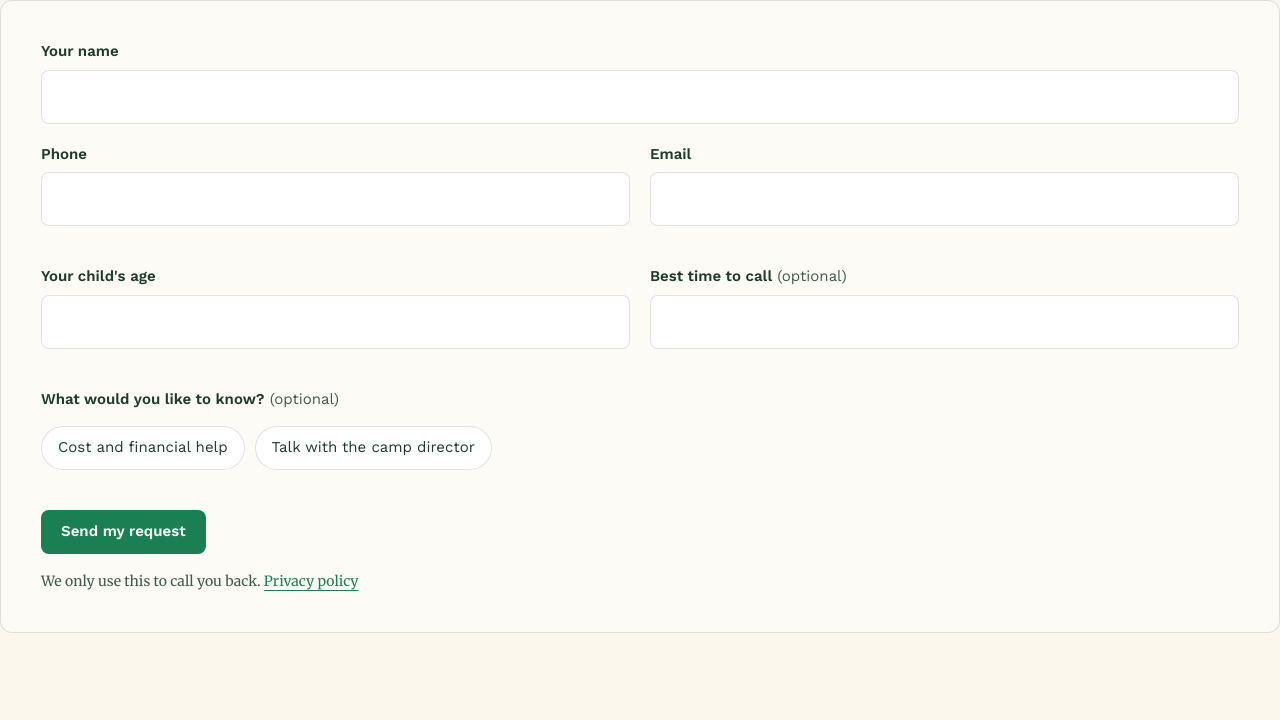
Scenario: AskAboutCampFields › shows the error message and the office phone when sending fails
Type "Dana Rivera" into the field labelled "Your name" at (640, 97), box [41, 70, 1239, 124]
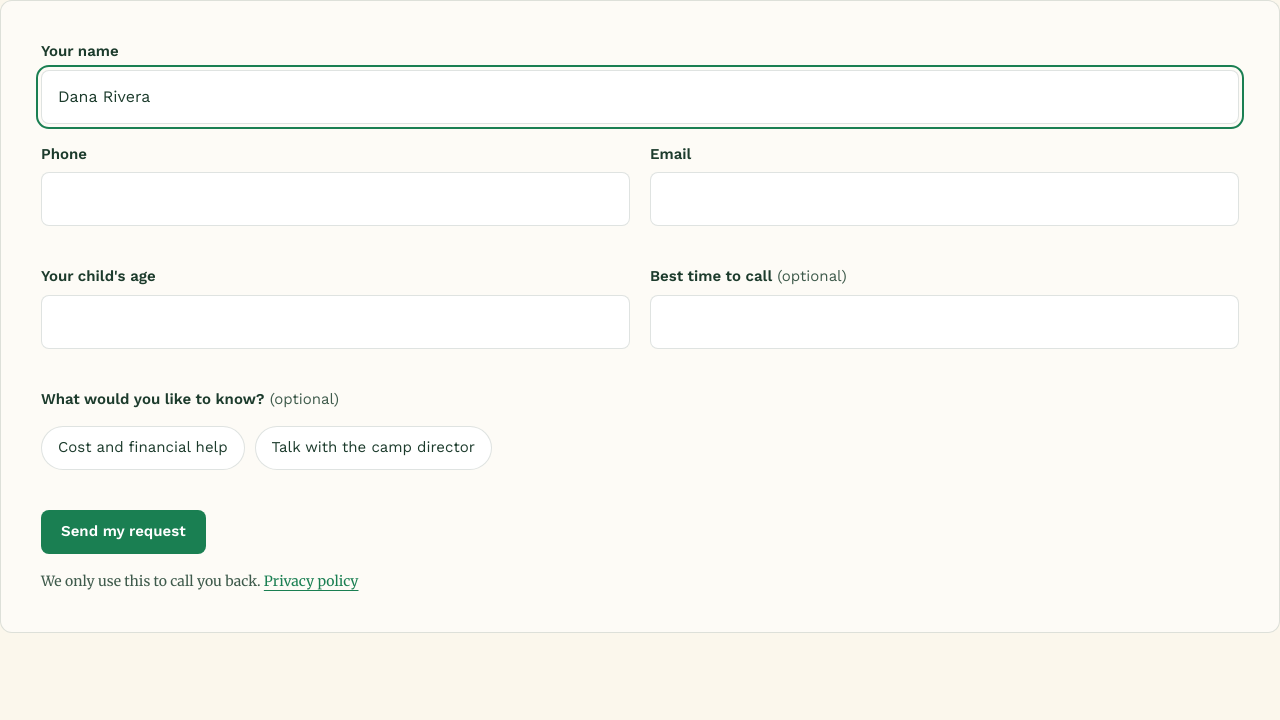
Type "610-555-0123" into the field labelled "Phone" at (336, 199), box [41, 172, 630, 226]
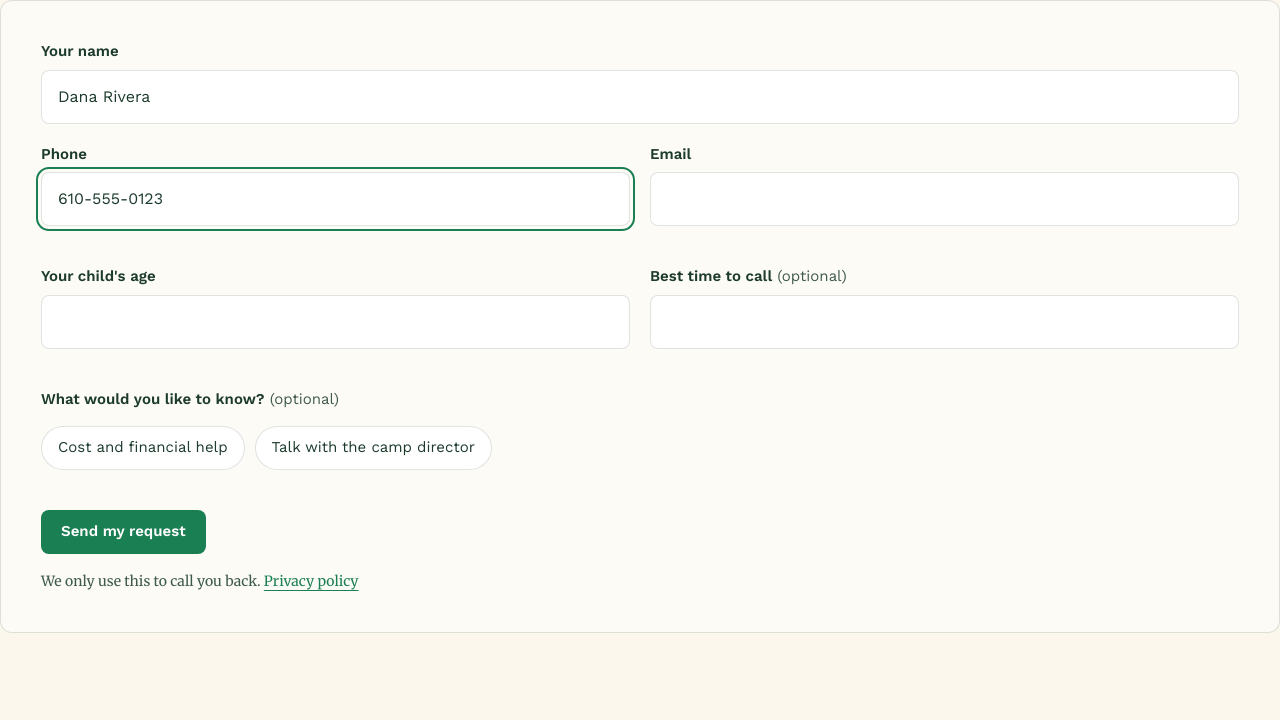
Type "dana@example.com" into the field labelled "Email" at (944, 199), box [650, 172, 1239, 226]
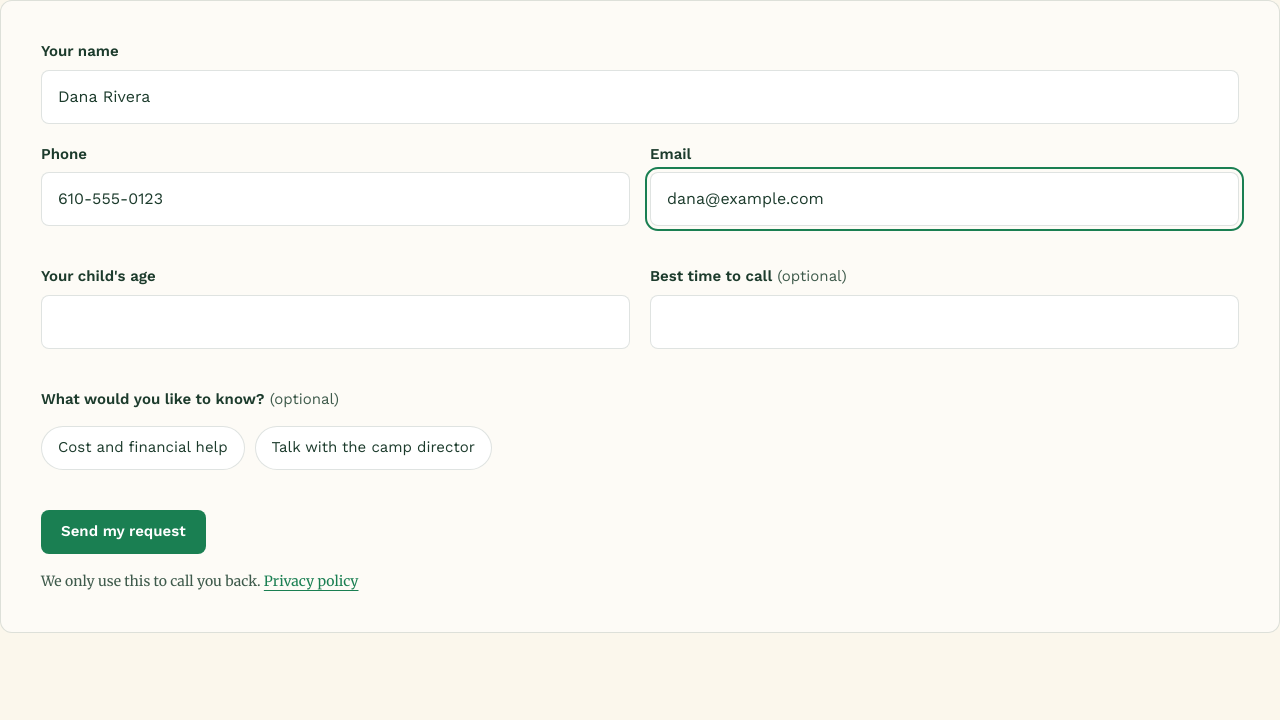
Type "9" into the field labelled "Your child's age" at (336, 322), box [41, 295, 630, 349]
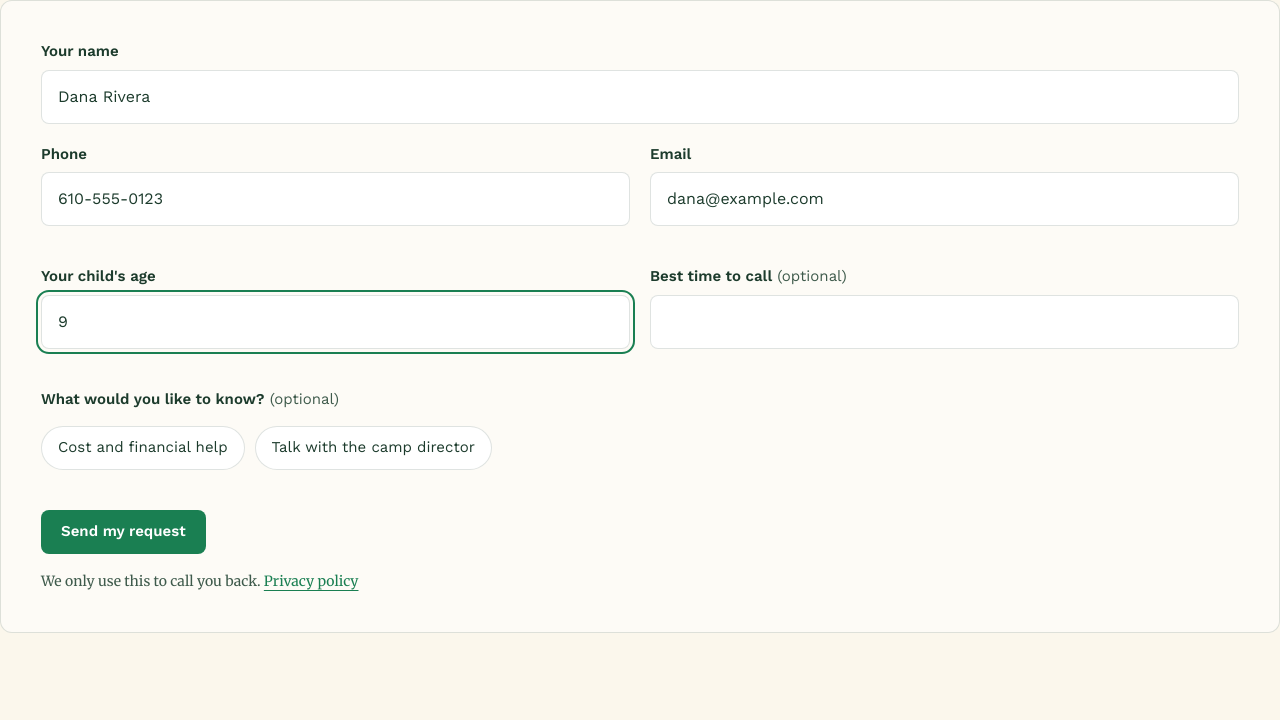
Click the checkbox labelled "Cost and financial help" at (143, 448), box [41, 426, 244, 470]
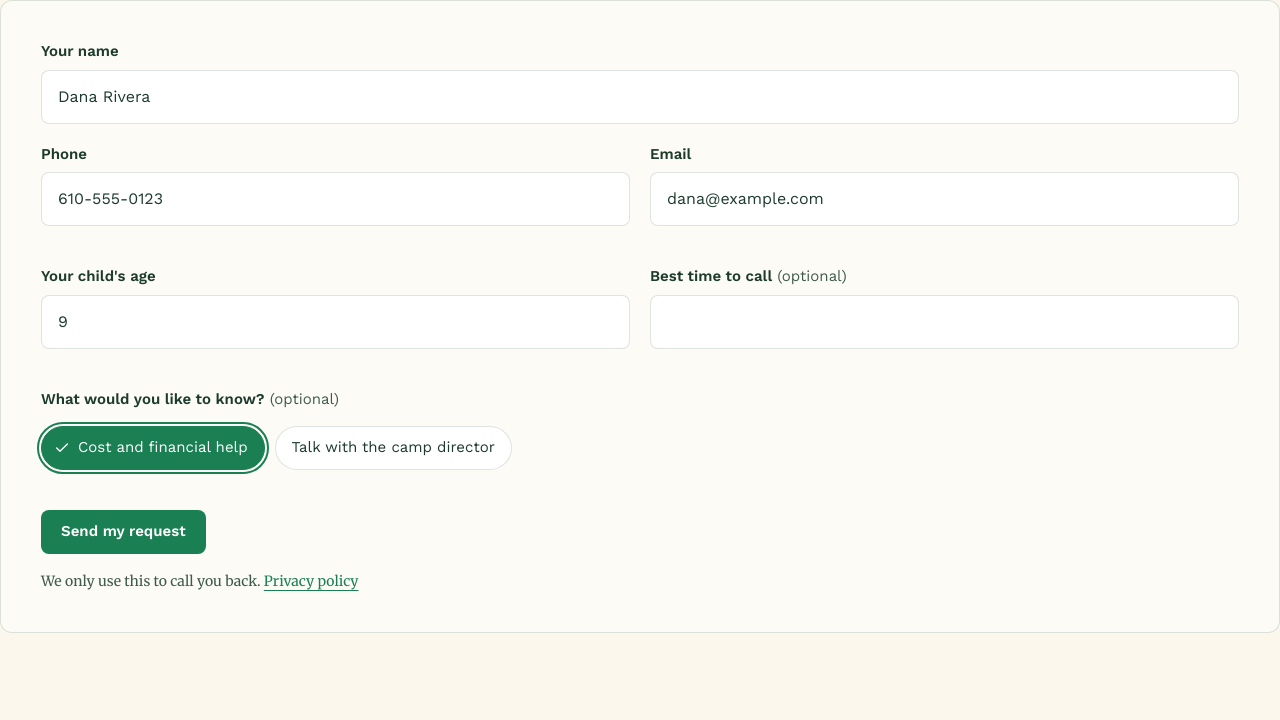
Click the button "Send my request" at (123, 532), box [41, 510, 206, 554]
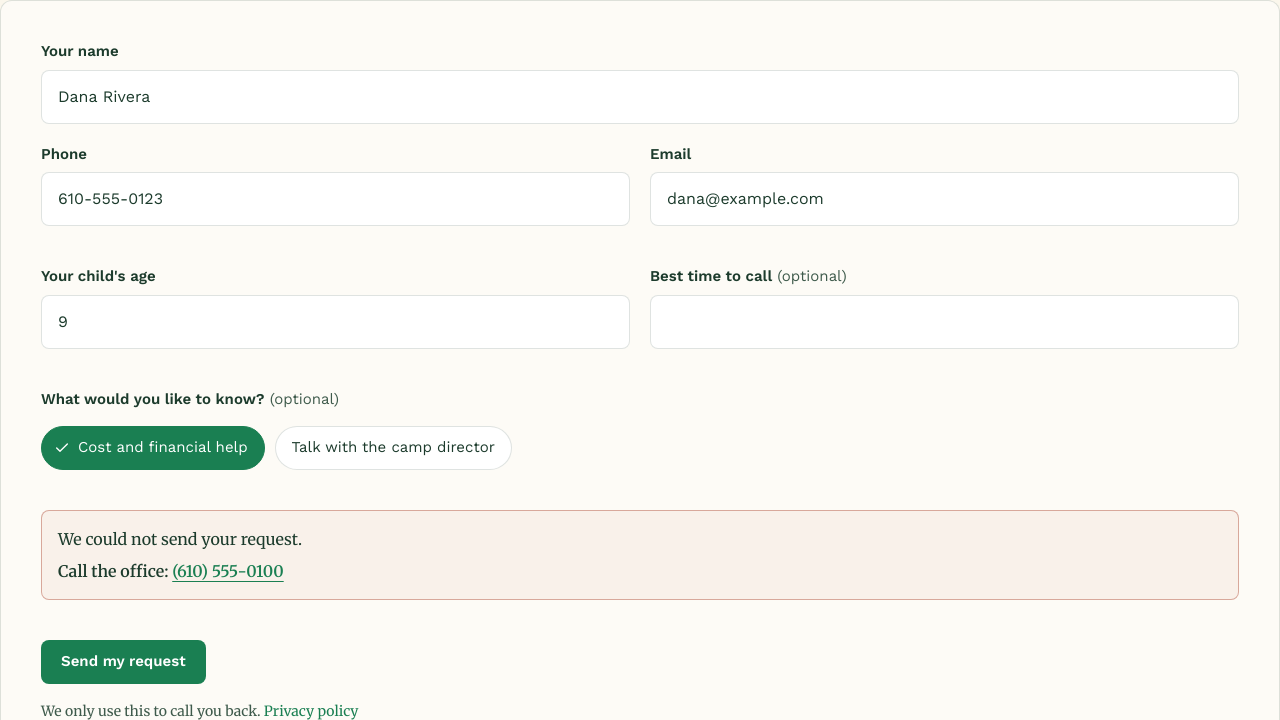
Now the message shows "We could not send your request.", box [58, 528, 302, 548]
